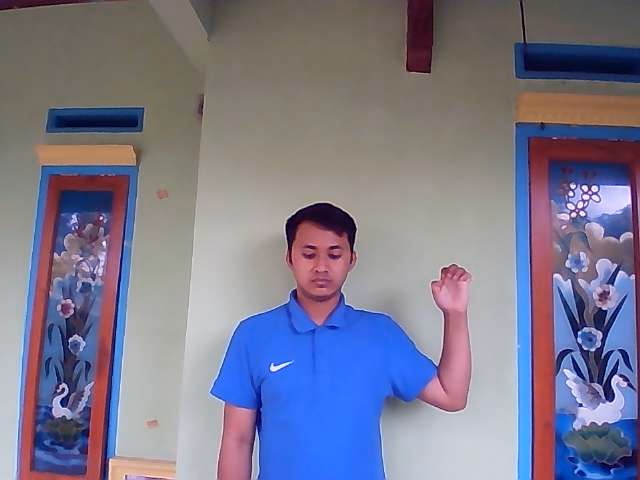E: (429, 264, 472, 314)
